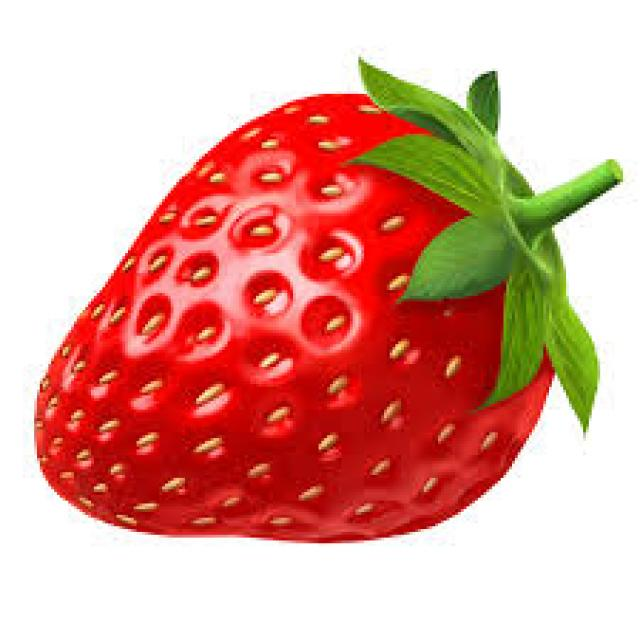organic waste: (31, 52, 620, 540)
